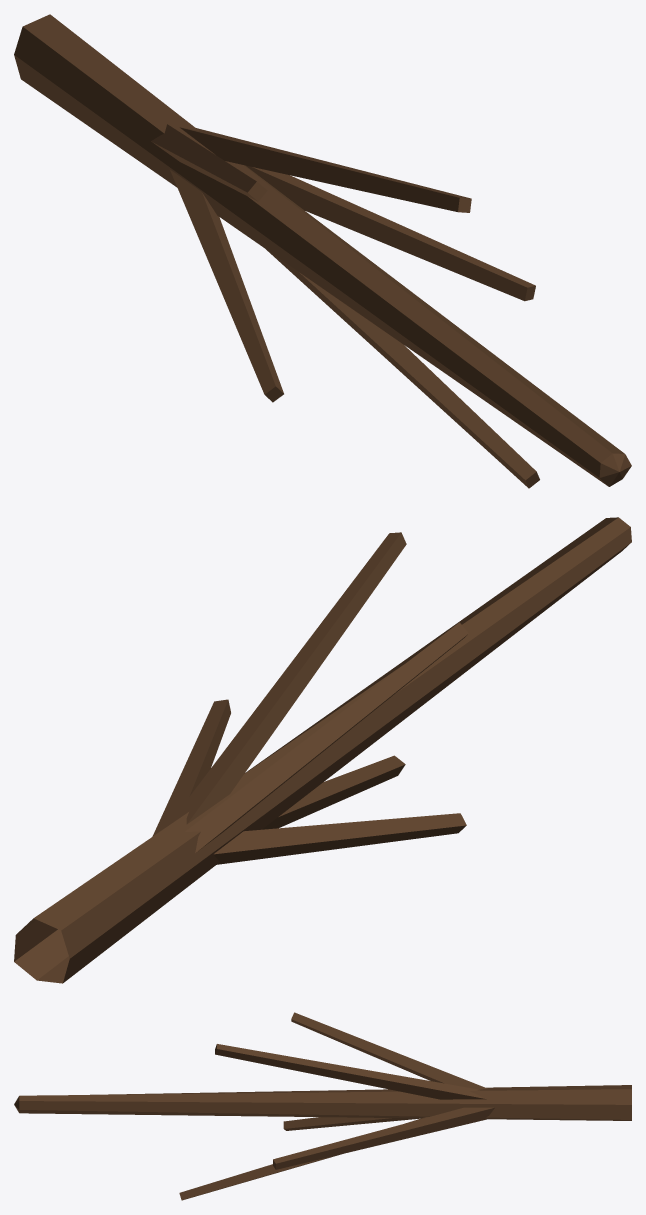
Rendered from dead.glb.
3 views of the same model, one above another, from view 1: azimuth 30°, elevation 25°; view 2: azimuth 150°, elevation 25°; view 3: azimuth 270°, elevation 25° (orthographic). The views are drawn at different scales.
Visible parts, largest first — view 1: tree_11_dead; view 2: tree_11_dead; view 3: tree_11_dead.
Part boxes in pixels (<box>): tree_11_dead: <box>14,14,631,488</box>; tree_11_dead: <box>14,517,631,983</box>; tree_11_dead: <box>14,1012,631,1200</box>.
Bounding box in the file's own units: 9.47 × 9.2 × 34.97.
